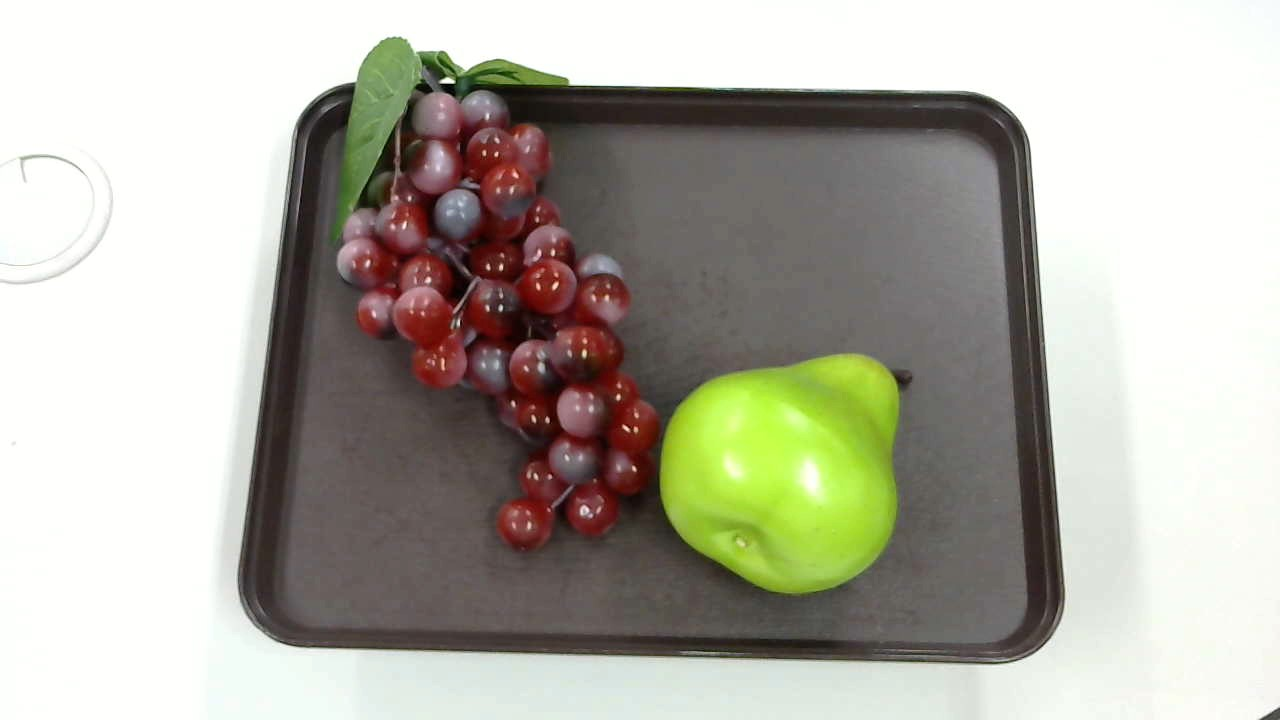grape: (322, 34, 666, 549)
green pear: (654, 351, 915, 600)
